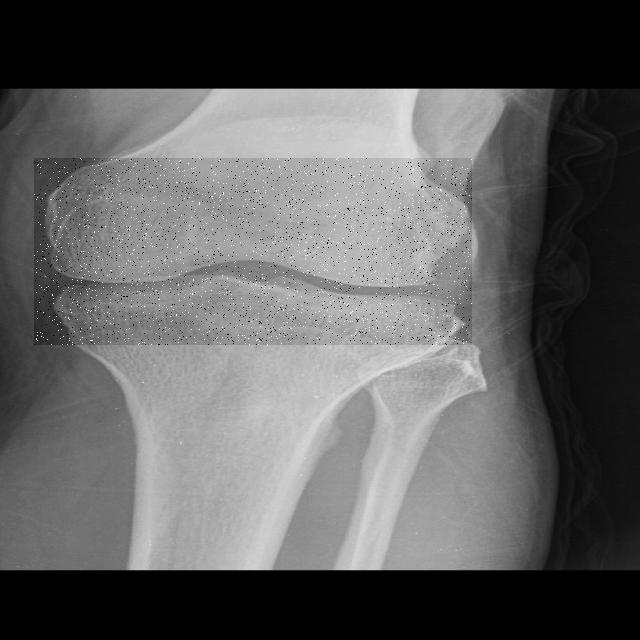normal: (34, 158, 472, 345)
